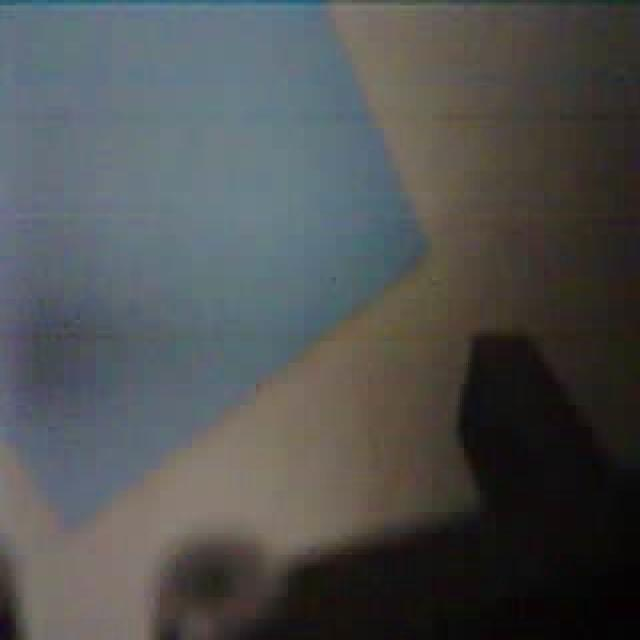blue_box: (0, 0, 432, 536)
